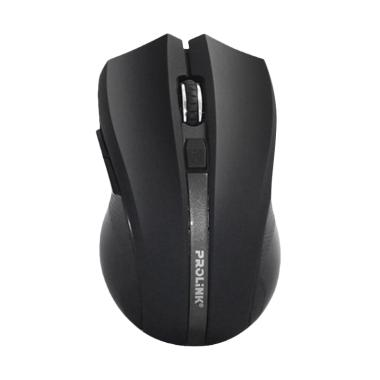Mouse: (84, 27, 285, 349)
